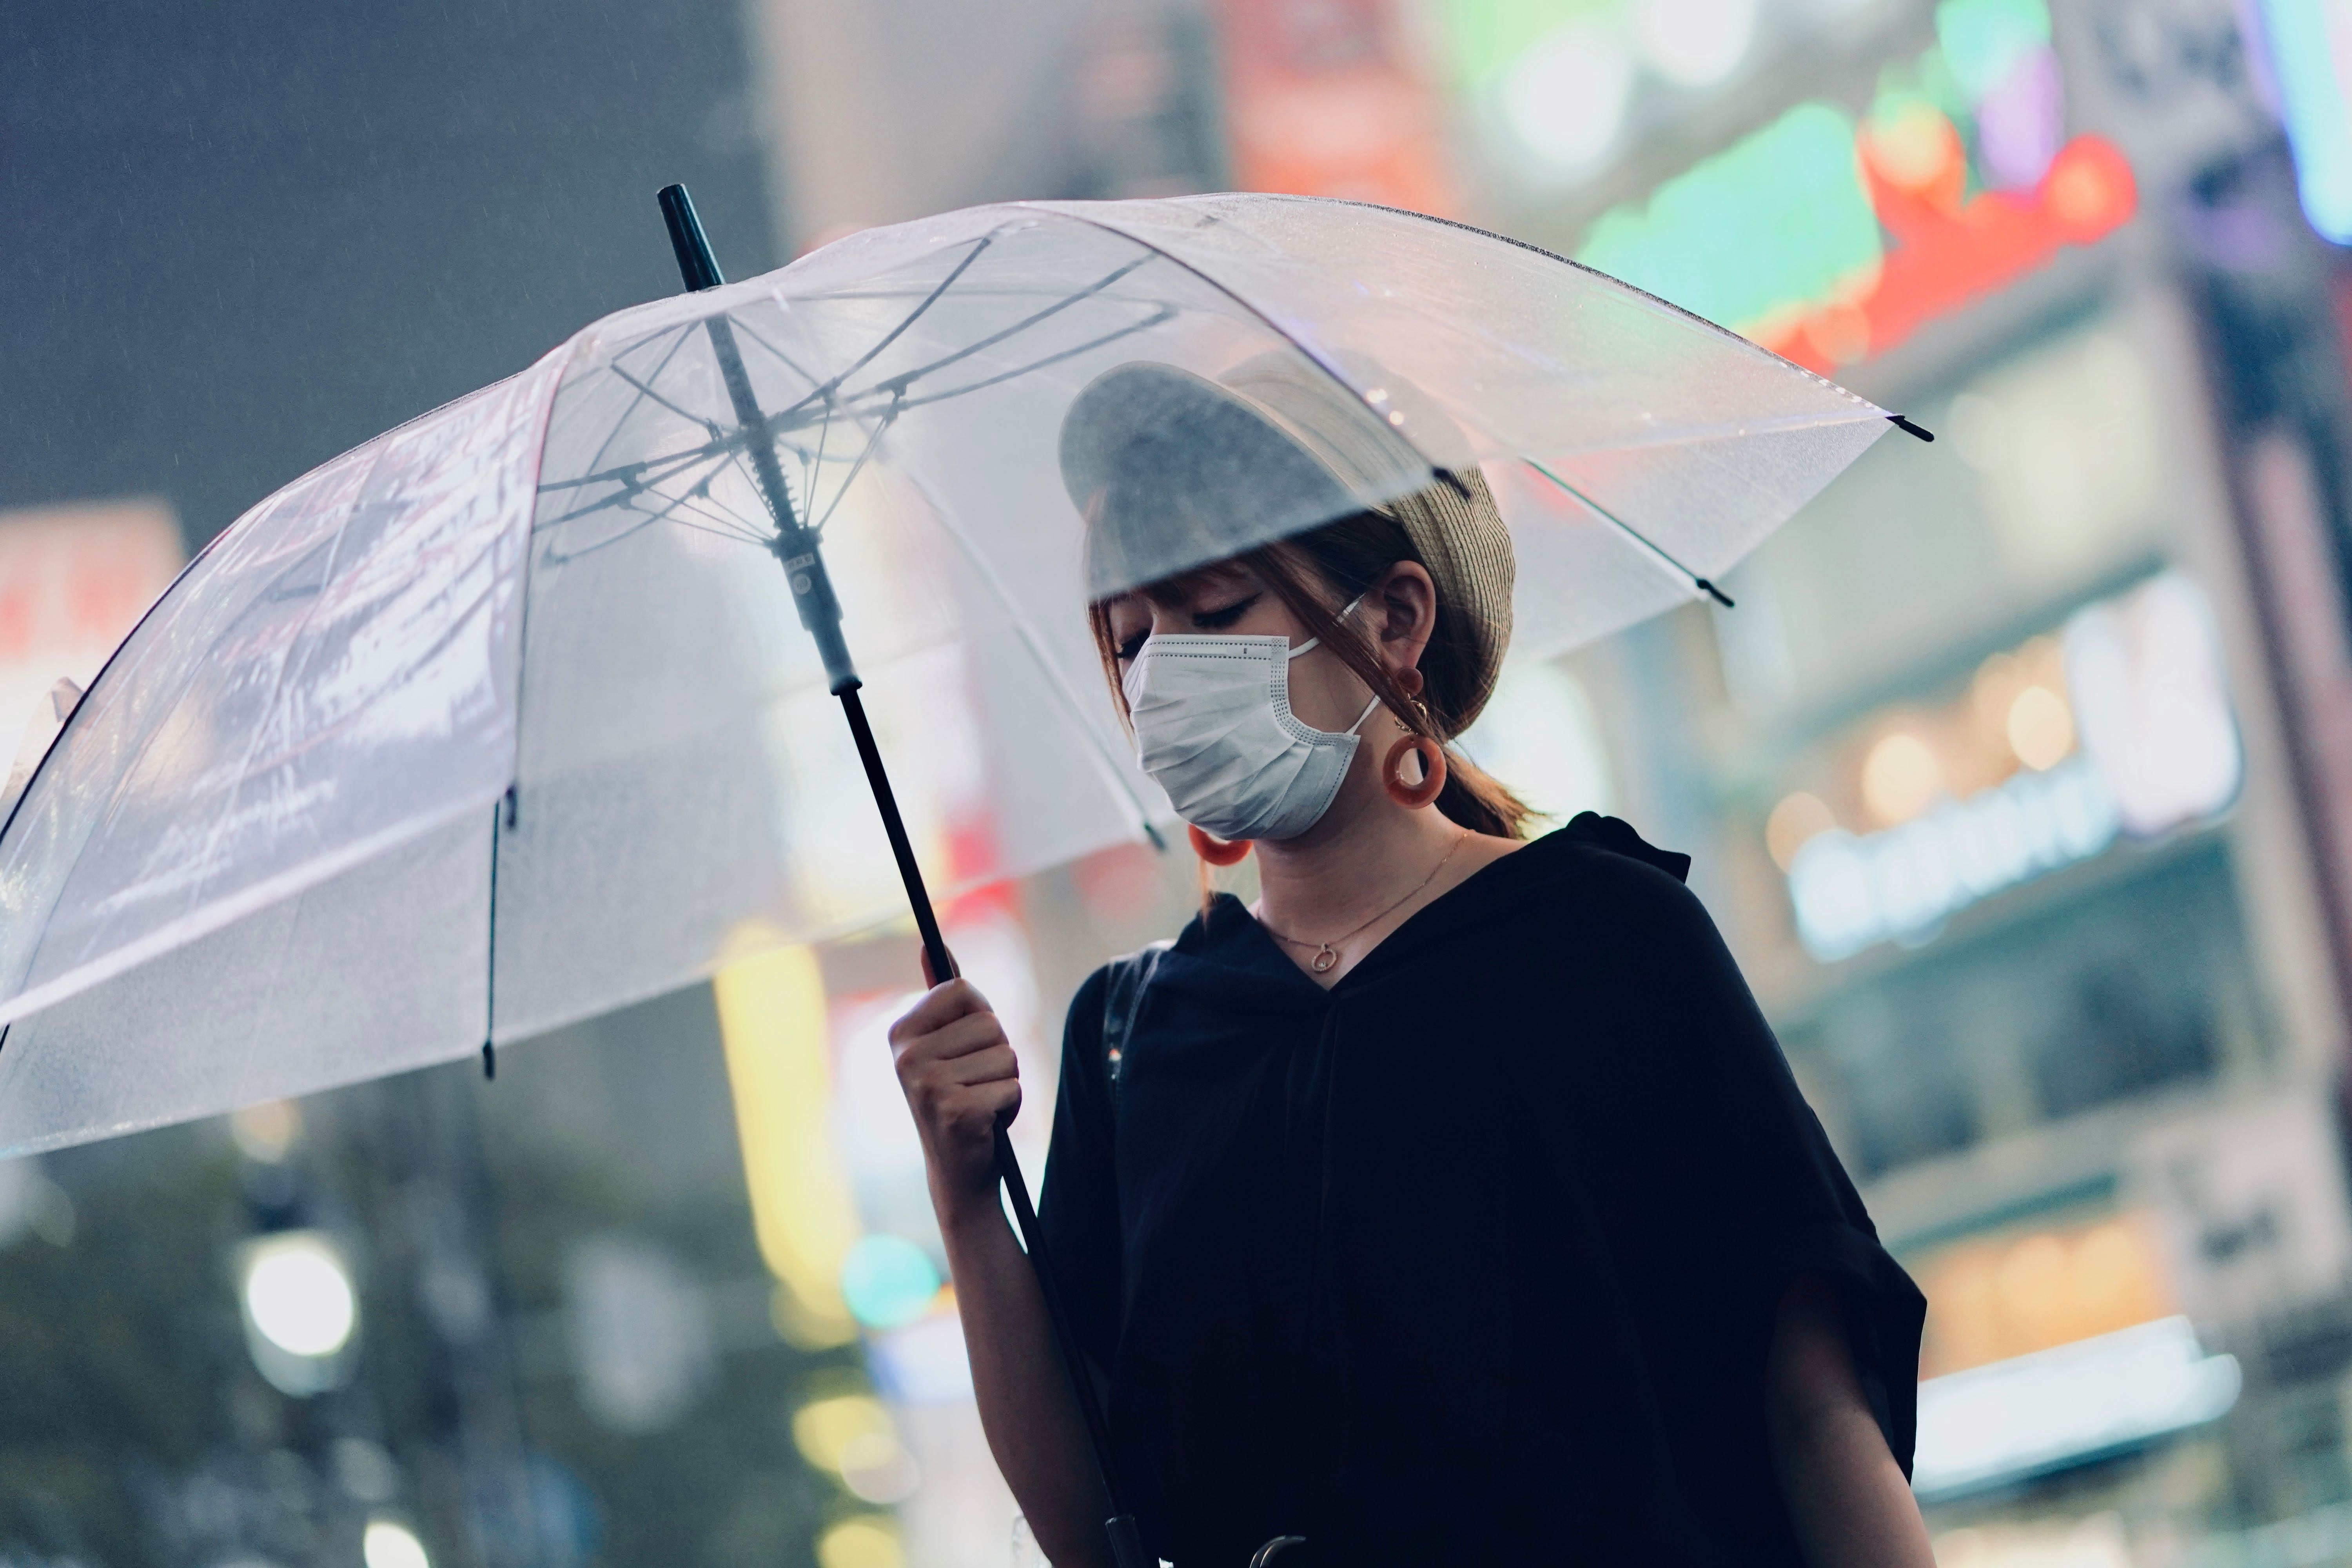mask: (1107, 630, 1392, 856)
person: (904, 347, 1996, 1568)
